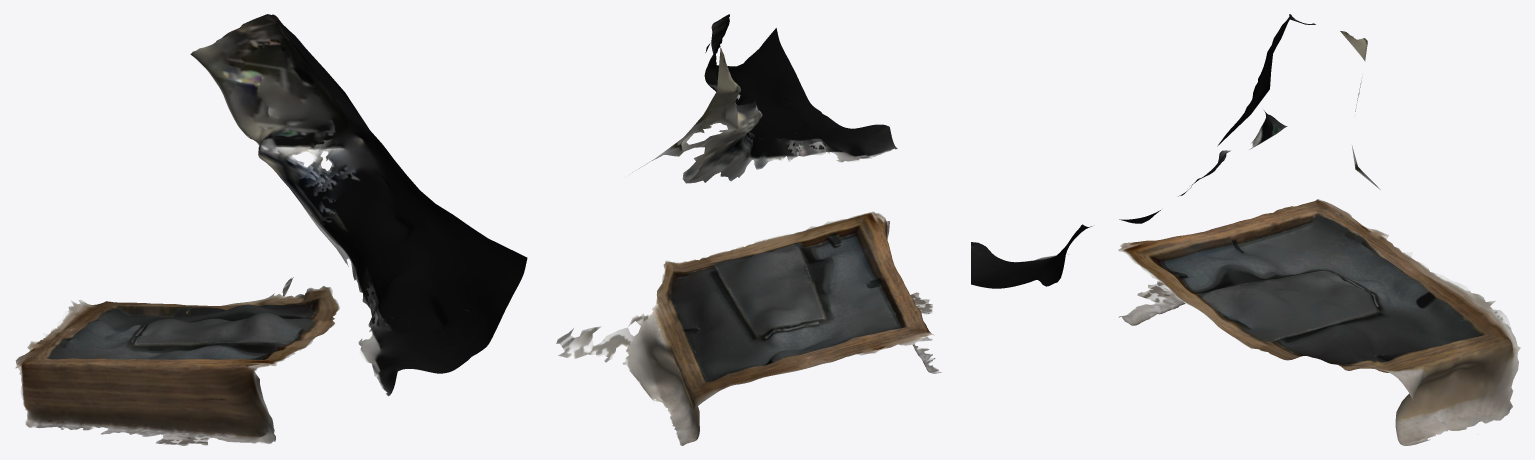
3 renders of one model, left to right at view 1: azimuth 30°, elevation 25°; view 2: azimuth 150°, elevation 25°; view 3: azimuth 270°, elevation 25°, orthographic. The views are drawn at different scales.
Bounding box in the file's own units: 0.7887 × 0.86 × 0.9992.
1 material, 1 textured.
